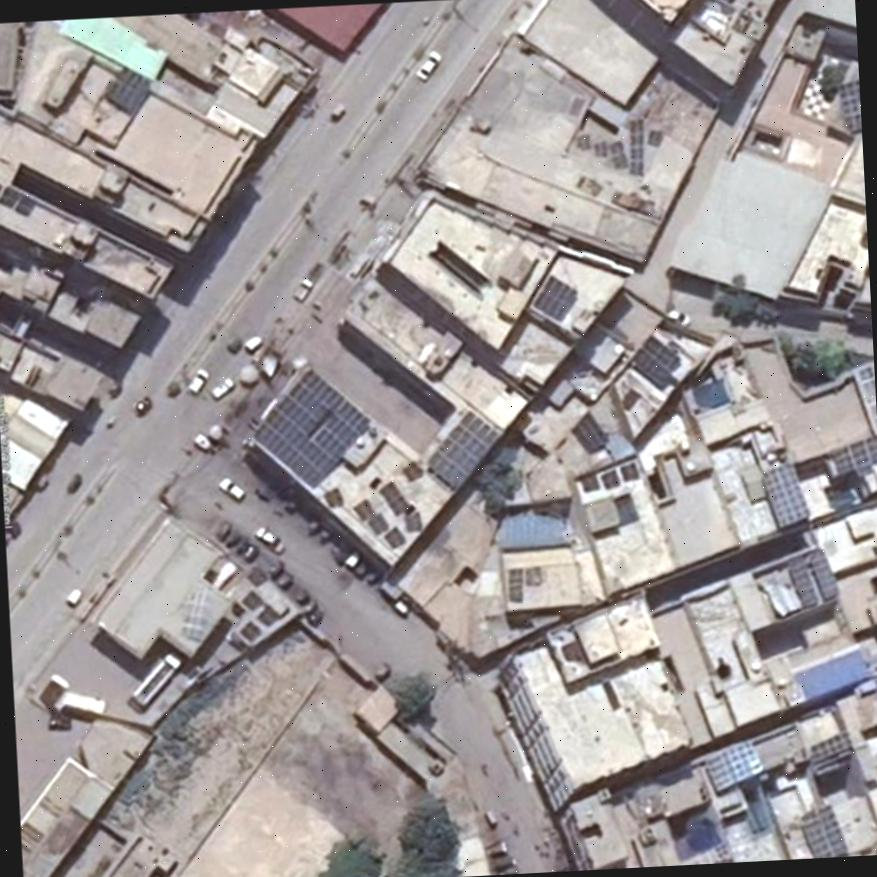Solarpanel: (252, 366, 373, 487), (427, 410, 497, 489), (761, 463, 810, 527), (705, 738, 763, 791), (791, 545, 837, 607), (796, 806, 848, 858), (630, 334, 676, 384), (832, 436, 877, 482), (536, 275, 577, 320), (107, 68, 146, 112), (351, 500, 387, 534), (839, 83, 861, 131), (378, 481, 408, 512), (630, 119, 644, 175), (610, 142, 628, 171), (509, 570, 522, 601), (404, 461, 423, 480), (621, 462, 639, 480), (323, 486, 340, 505), (386, 527, 403, 546), (602, 471, 619, 487), (582, 476, 596, 490)
